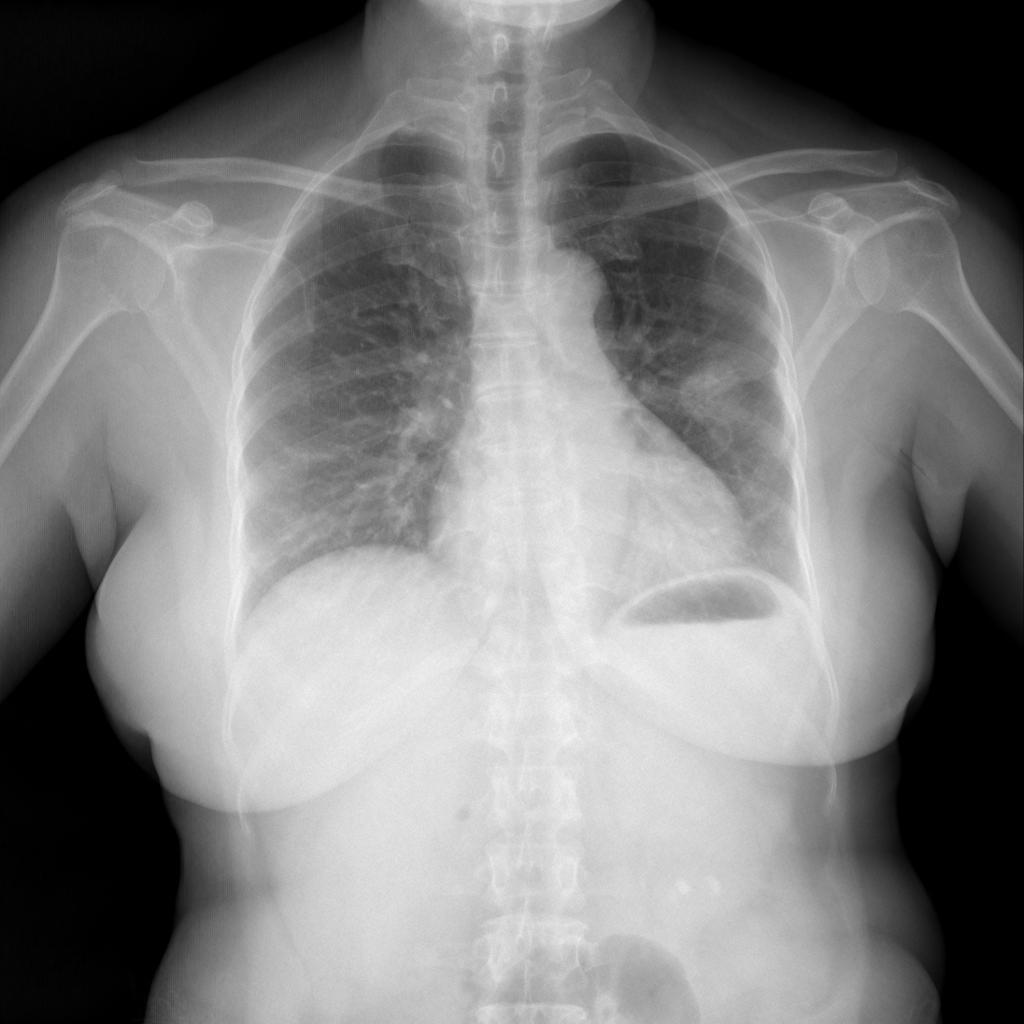Nodule: (670, 339, 767, 442)
